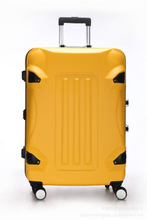luggage: (18, 14, 132, 200)
